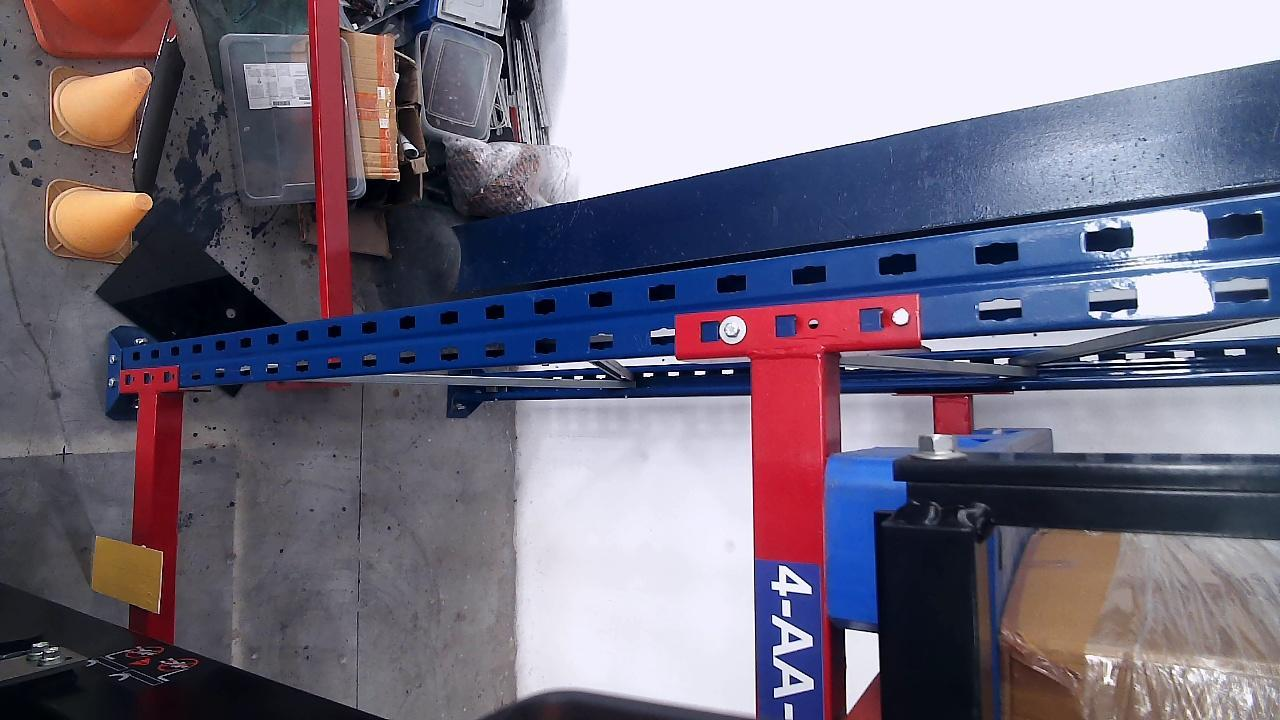h_rack: (750, 351, 826, 720), (128, 393, 159, 633)
orange_strip: (91, 535, 163, 612)
